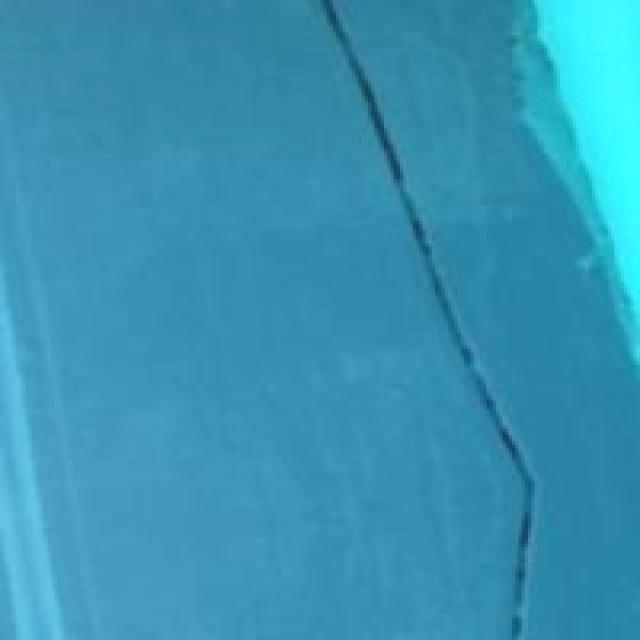crack: (302, 0, 542, 640)
